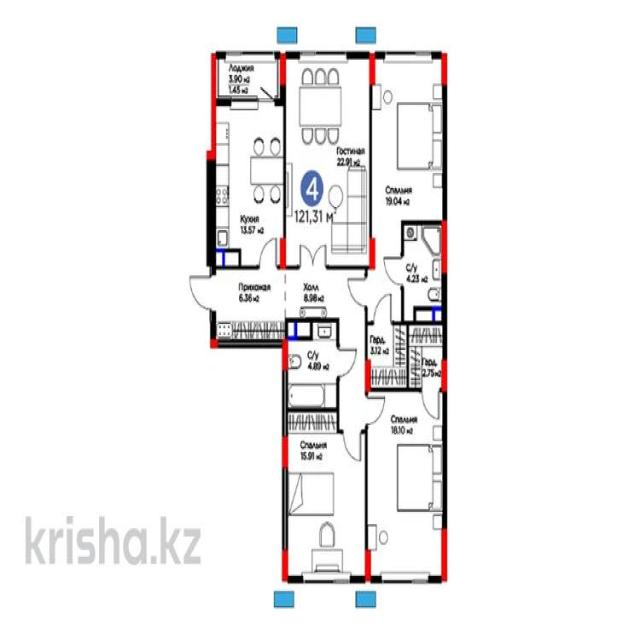balcony: (214, 53, 282, 101)
bathroom: (286, 327, 336, 405), (402, 225, 442, 322)
hallway: (213, 270, 284, 341), (288, 272, 364, 318)
kitchen: (215, 102, 281, 263)
living_room: (285, 54, 368, 262), (367, 392, 443, 577), (287, 413, 365, 581), (372, 53, 442, 221)
